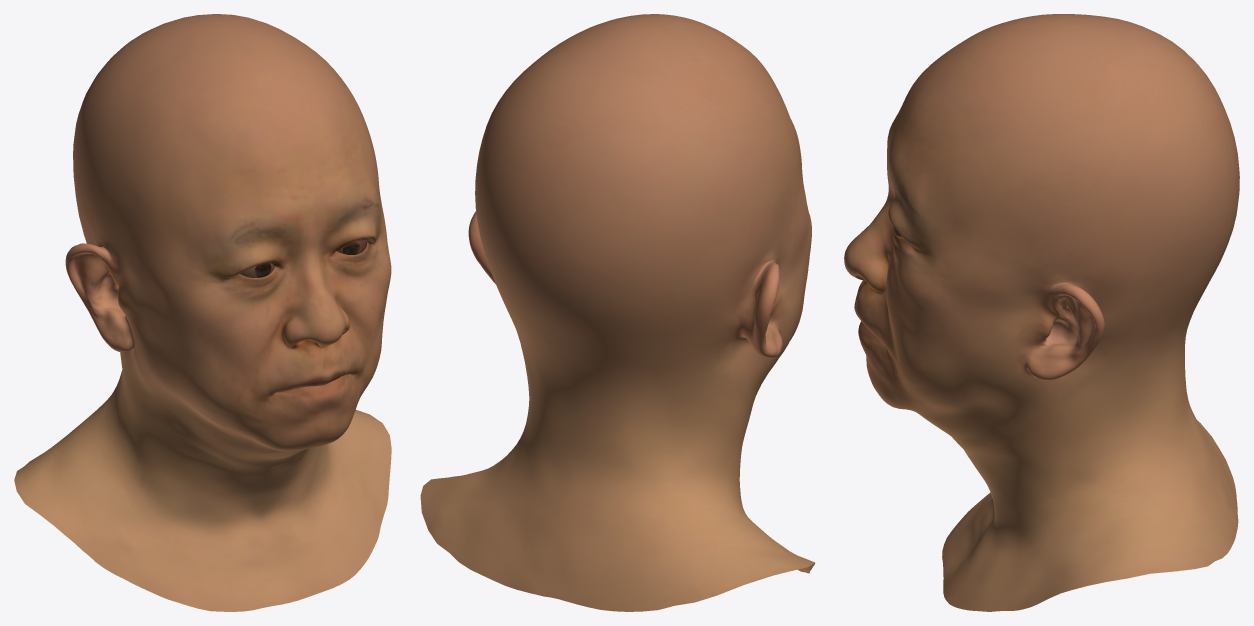
File: full.gltf
The picture shows the model from 3 angles, left to right: view 1: azimuth 30°, elevation 25°; view 2: azimuth 150°, elevation 25°; view 3: azimuth 270°, elevation 25°; orthographic projection. The views are drawn at different scales.
Parts seen in each view (by area): view 1: Face; view 2: Face; view 3: Face.
Boxes of the visible parts, box(x1,y1,x2,y2) form: Face: box(14, 14, 391, 611); Face: box(420, 14, 815, 611); Face: box(844, 14, 1239, 611).
Bounding box in the file's own units: 1.29 × 1.84 × 1.2.
3 materials, 3 textured.
